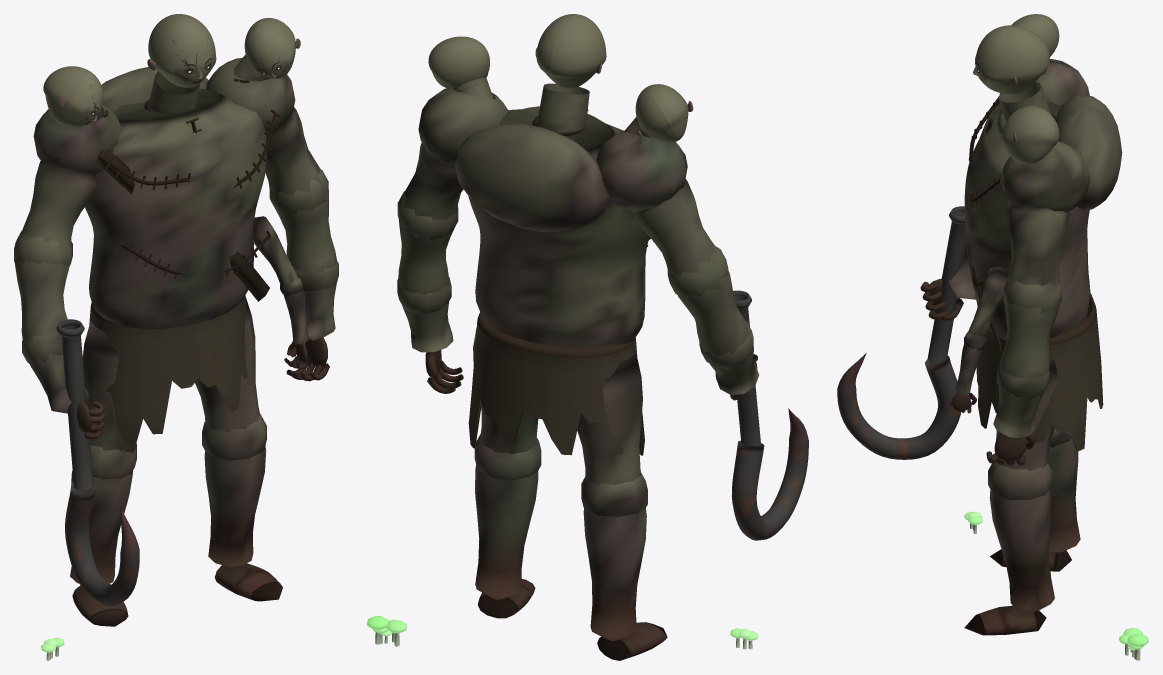
File: warden.glb
3 renders of one model, left to right at view 1: azimuth 30°, elevation 25°; view 2: azimuth 150°, elevation 25°; view 3: azimuth 270°, elevation 25°, orthographic. The views are drawn at different scales.
Parts seen in each view (by area): view 1: warden-body, warden-face, warden-metal; view 2: warden-body, warden-face, warden-metal, warden-glow; view 3: warden-body, warden-face, warden-metal, warden-glow.
Boxes of the visible parts, box(x1,y1,x2,y2) form: warden-body: box(14, 38, 338, 660); warden-face: box(43, 14, 295, 127); warden-metal: box(56, 319, 139, 606); warden-body: box(375, 47, 759, 660); warden-face: box(428, 14, 688, 142); warden-metal: box(731, 290, 808, 540); warden-glow: box(367, 616, 758, 640); warden-body: box(920, 57, 1140, 660); warden-face: box(975, 14, 1059, 164); warden-metal: box(837, 206, 966, 459); warden-glow: box(964, 511, 1148, 650).
Bounding box in the file's own units: 1.14 × 1.99 × 0.9753.
4 materials, 1 textured.
